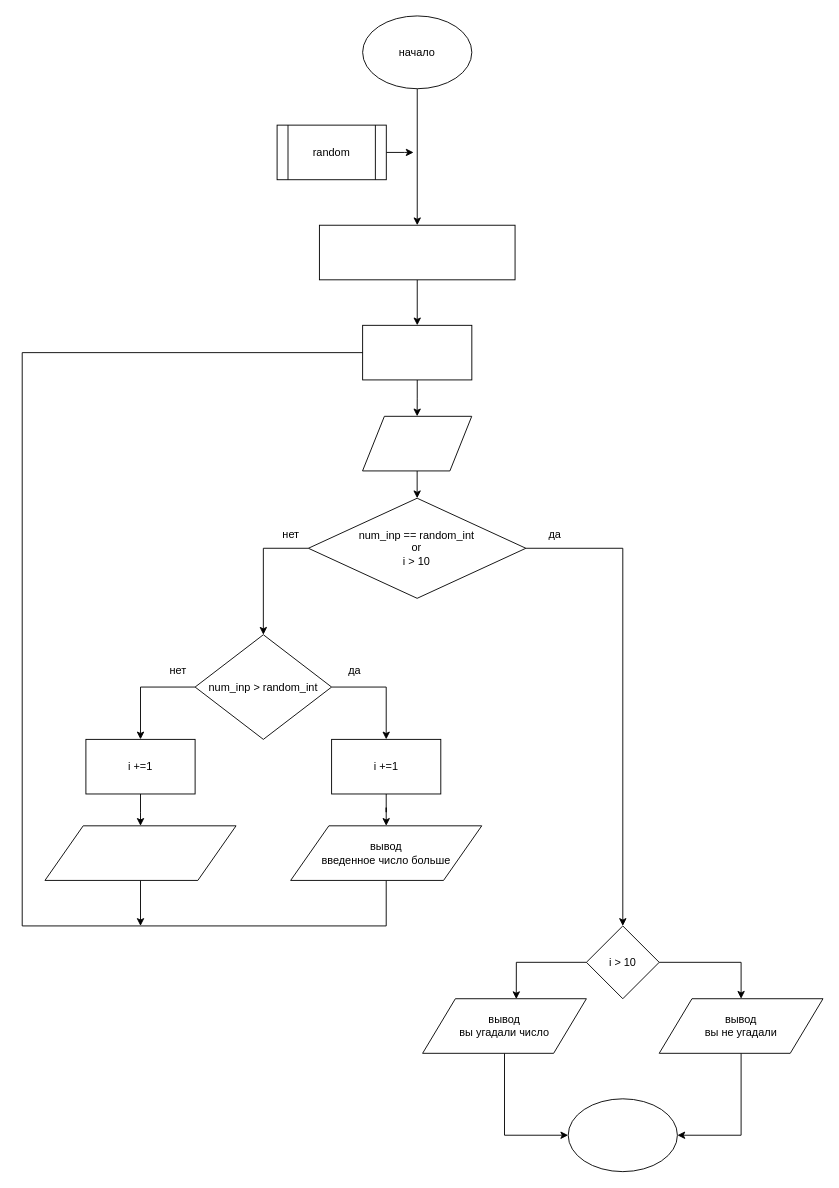
The diagram is 839 pixels wide and 1188 high, and some of its shapes have lost their labels. Each missing label, with the centre of its shape:
"random_int = random.randint(0,100)" belongs at (x=416, y=252).
"while True" belongs at (x=417, y=352).
"ввод num_inp" belongs at (x=417, y=443).
"вывод введенное число меньше" belongs at (x=140, y=852).
"конец" belongs at (x=622, y=1135).
